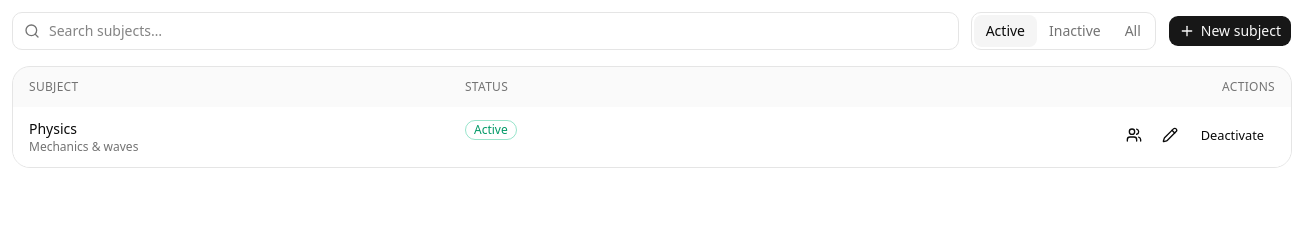
Test: SubjectManager — status filter › Inactive shows only inactive; All shows both
This screenshot has width=1304, height=242.
Click the button "inactive" at (1075, 31), box x1=1037 y1=15 x2=1113 y2=47
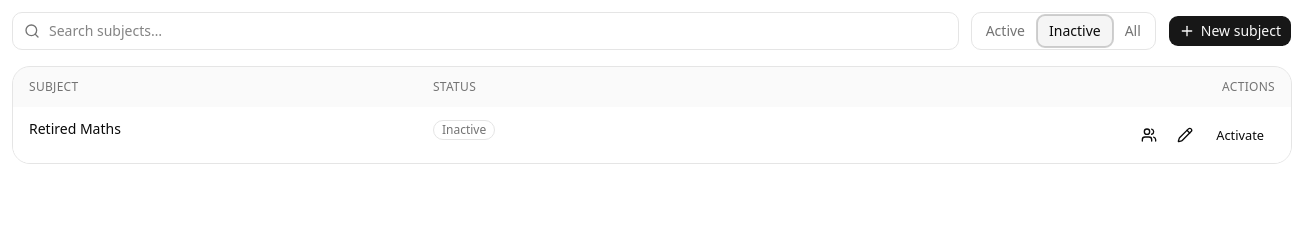
Now the text "Retired Maths" is shown, box x1=29 y1=119 x2=121 y2=138
Now the text "Physics" is gone
Click the button "all" at (1133, 31), box x1=1113 y1=15 x2=1153 y2=47
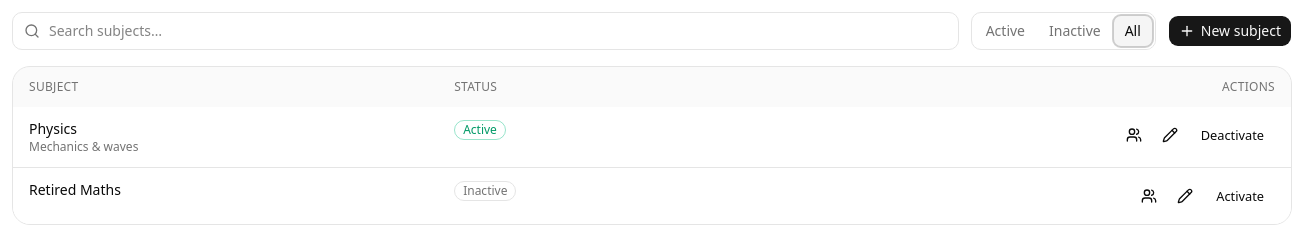
Now the text "Retired Maths" is shown, box x1=29 y1=180 x2=121 y2=199
Now the text "Physics" is shown, box x1=29 y1=119 x2=77 y2=138
